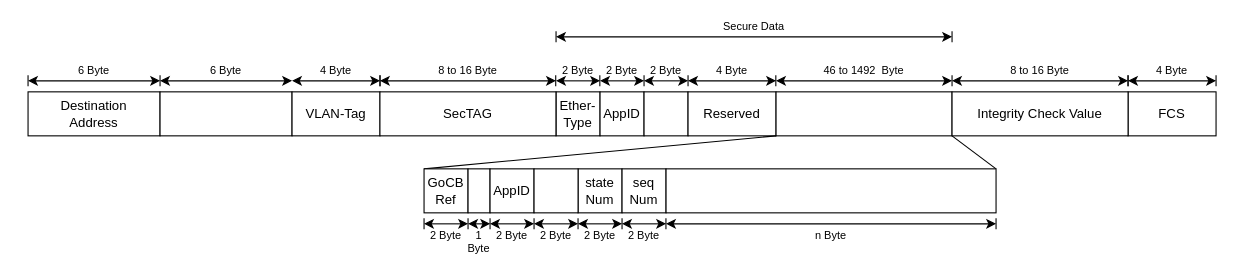
Some shapes in this 1245 by 273 pixel diagram are drawn without their labels. Here are the shapes that lost their labels. From the top down, the centre of each, then its label:
the point at 225,113: Source Address
the point at 665,113: Length
the point at 863,113: GPDU
the point at 478,190: TTL
the point at 555,190: time-stamp
the point at 830,190: Data
